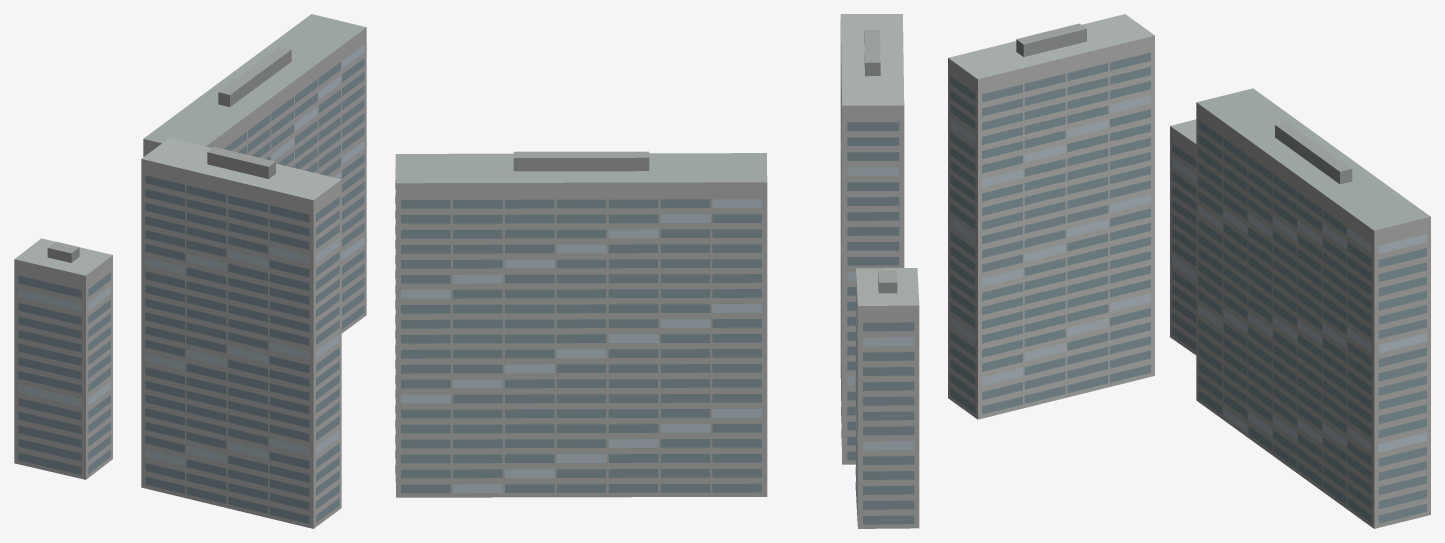
The model's file is apt-a12208002.glb.
3 views of the same model, side by side, from view 1: azimuth 30°, elevation 25°; view 2: azimuth 150°, elevation 25°; view 3: azimuth 270°, elevation 25° (orthographic). The views are drawn at different scales.
Visible parts, largest first — view 1: apt-a12208002; view 2: apt-a12208002; view 3: apt-a12208002.
Boxes of the visible parts, box(x1,y1,x2,y2) form: apt-a12208002: box(14, 14, 366, 528); apt-a12208002: box(395, 14, 919, 528); apt-a12208002: box(948, 14, 1430, 528).
Size of the model in its own units: 85.56 by 67 by 83.04.
